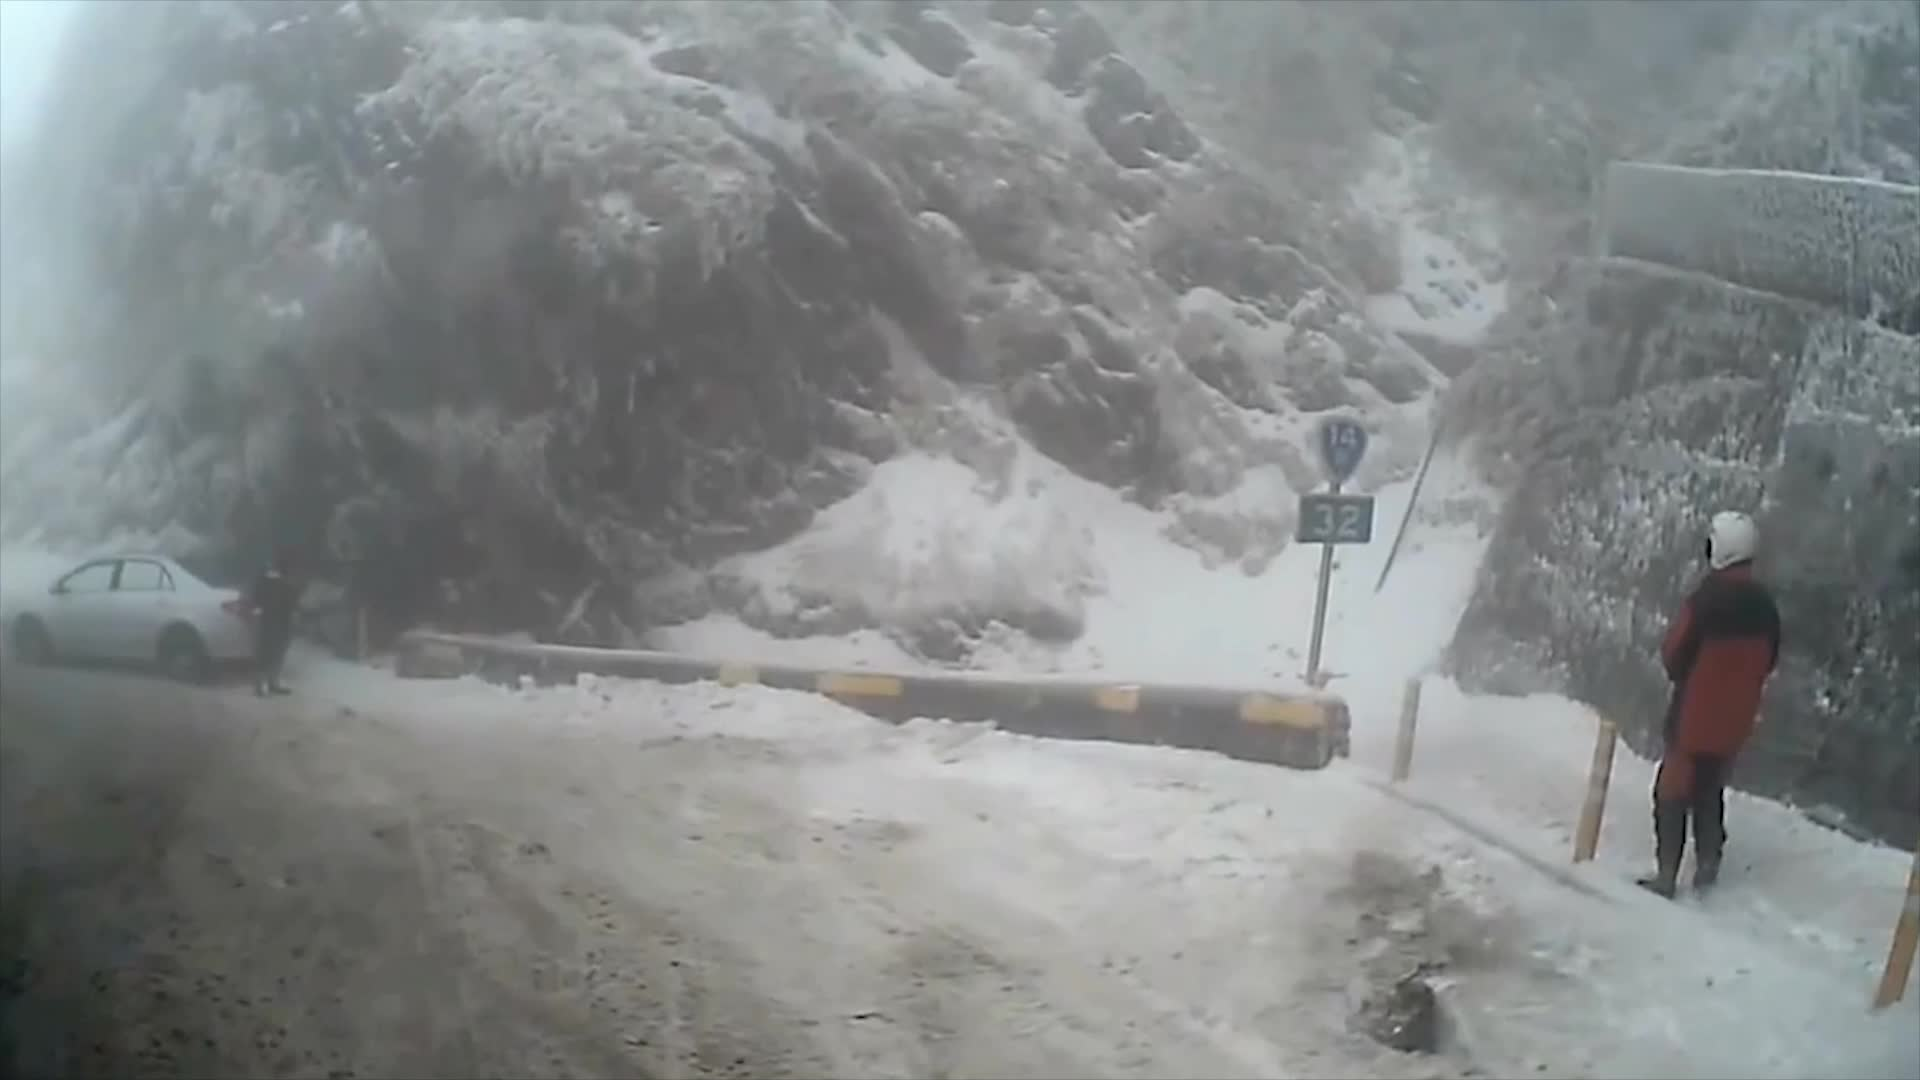pedestrian: (1632, 512, 1783, 905), (251, 563, 299, 697)
vehicle: (0, 550, 269, 683)
